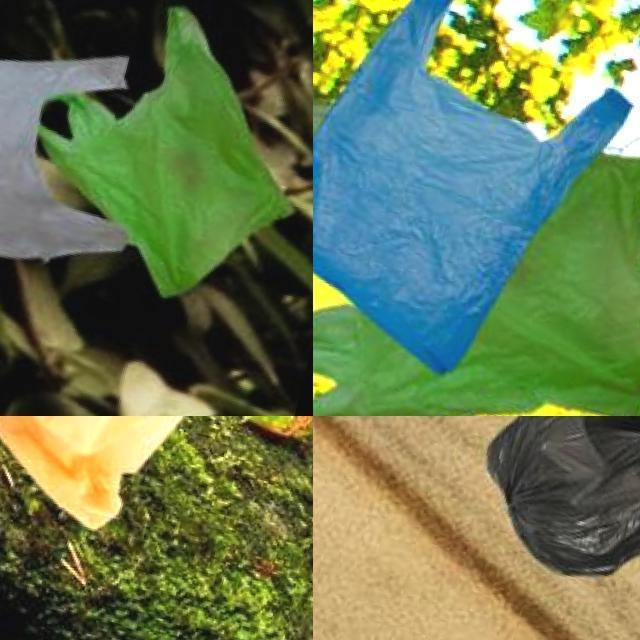waste: (313, 0, 640, 405), (313, 88, 640, 416), (13, 0, 313, 322), (0, 0, 174, 322), (0, 416, 297, 553), (476, 416, 640, 608)
